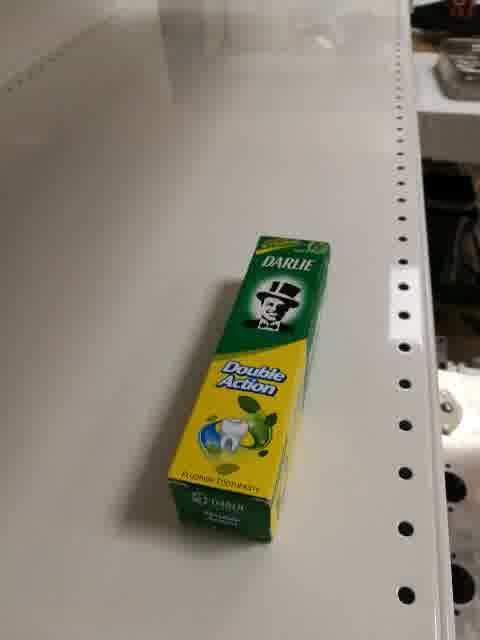toothpaste: (163, 234, 332, 547)
